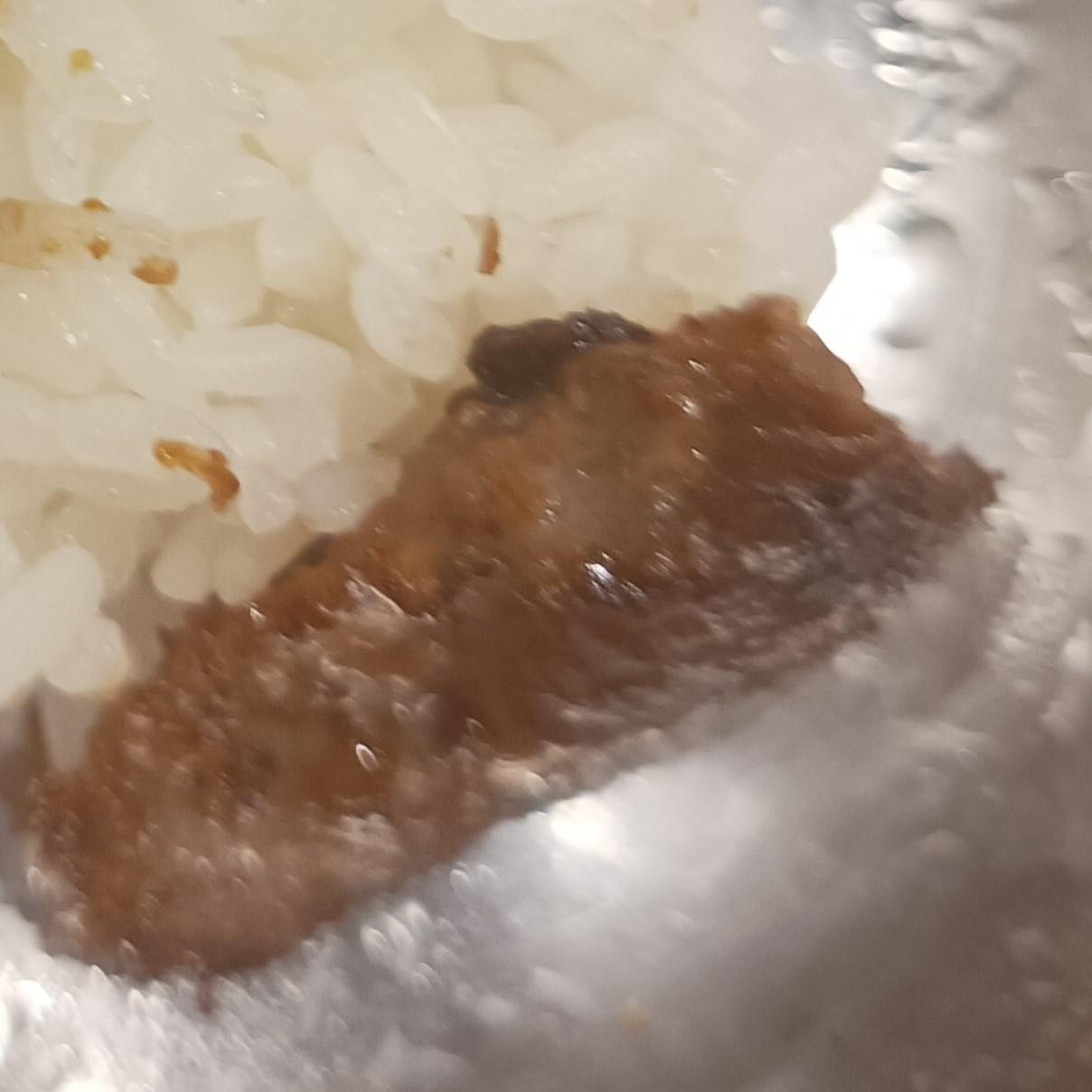Well-Cooked: (25, 297, 997, 975)
